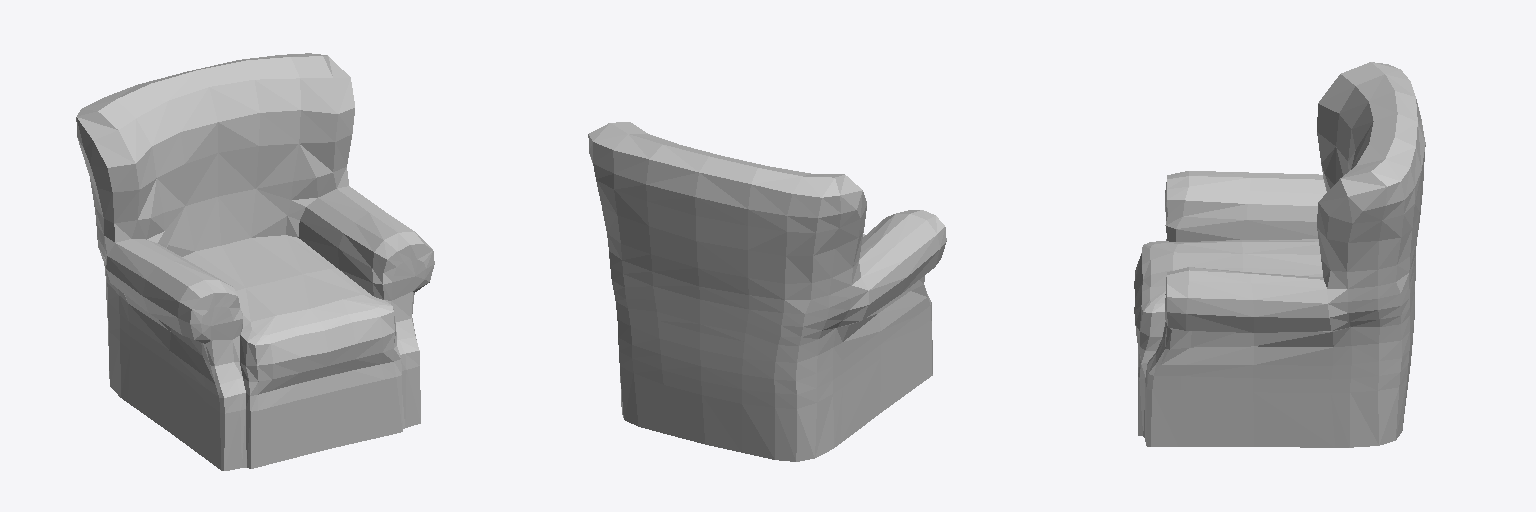
File: uploads_files_957445_Armchair_OBJ.obj
The picture shows the model from 3 angles: view 1: azimuth 30°, elevation 25°; view 2: azimuth 150°, elevation 25°; view 3: azimuth 270°, elevation 25°; orthographic projection.
Parts seen in each view (by area): view 1: Armchair; view 2: Armchair; view 3: Armchair.
Part boxes in pixels (left/top/right/bottom): Armchair: left=76, top=53, right=434, bottom=470; Armchair: left=588, top=122, right=946, bottom=461; Armchair: left=1134, top=62, right=1425, bottom=447.
Bounding box in the file's own units: 138 × 144 × 133.